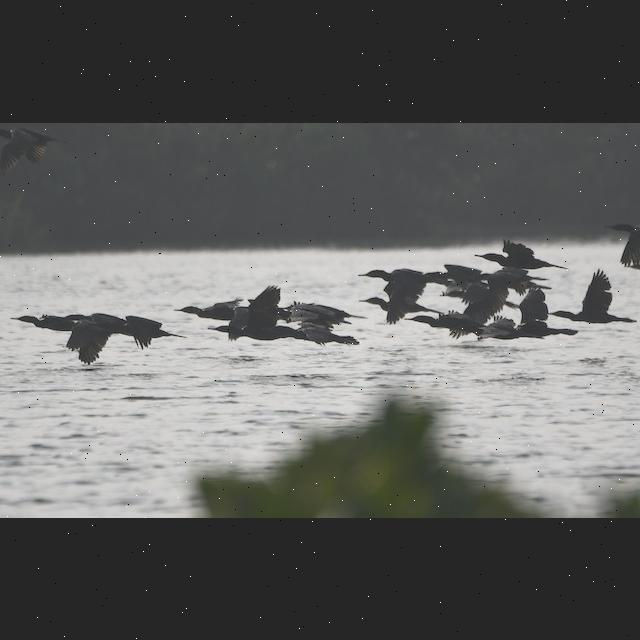cormorant: (548, 270, 636, 326), (608, 210, 640, 270)
